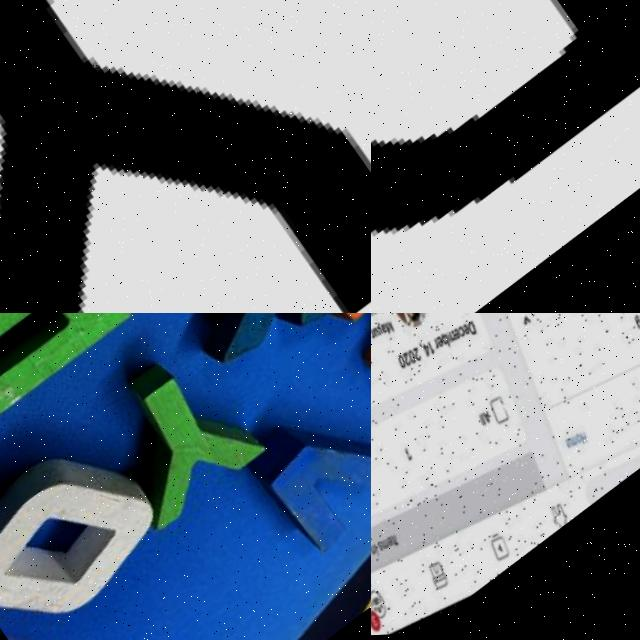0: (409, 351, 426, 369), (399, 356, 416, 374)
1: (429, 343, 444, 360), (409, 449, 423, 465)
2: (414, 348, 431, 367), (404, 353, 421, 372)
3: (377, 618, 391, 632)
4: (424, 343, 441, 362)
D: (371, 0, 640, 313)
F: (0, 313, 152, 427)
K: (140, 313, 371, 386)
Q: (0, 427, 193, 640)
V: (243, 392, 371, 578)
Y: (0, 0, 371, 313), (74, 334, 286, 542)
